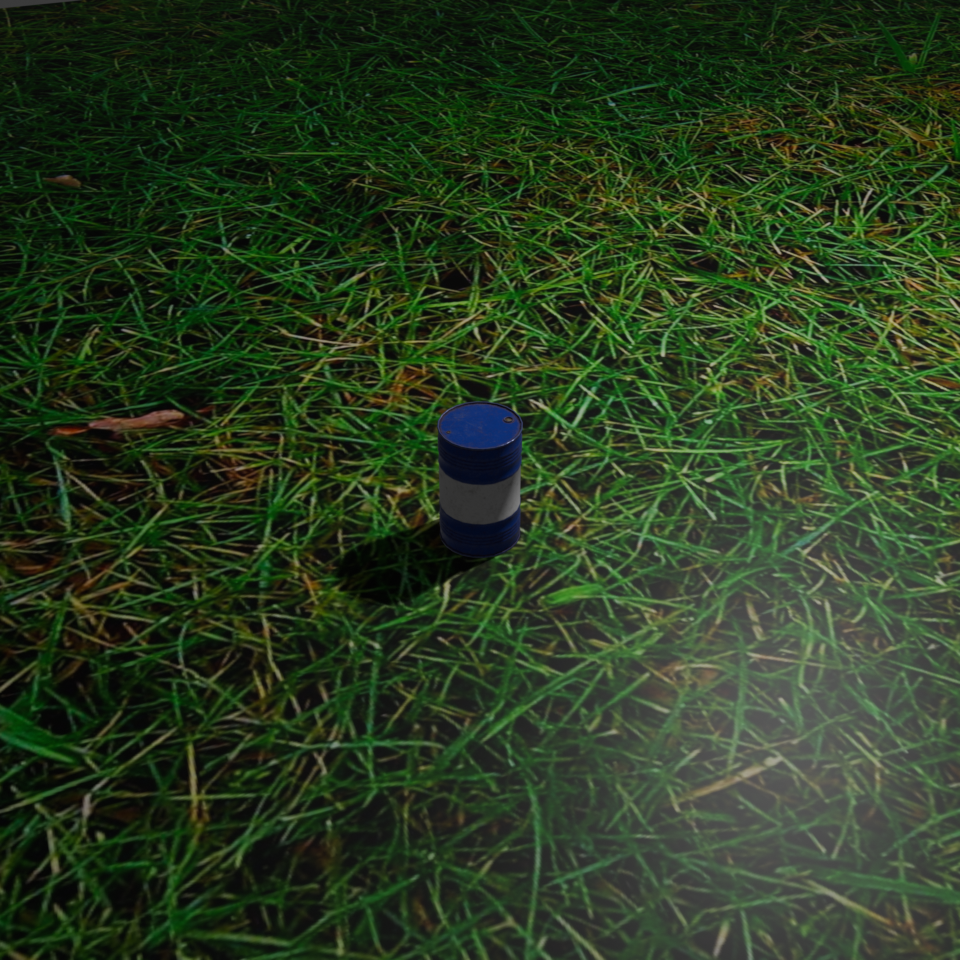circle: (436, 400, 521, 558)
